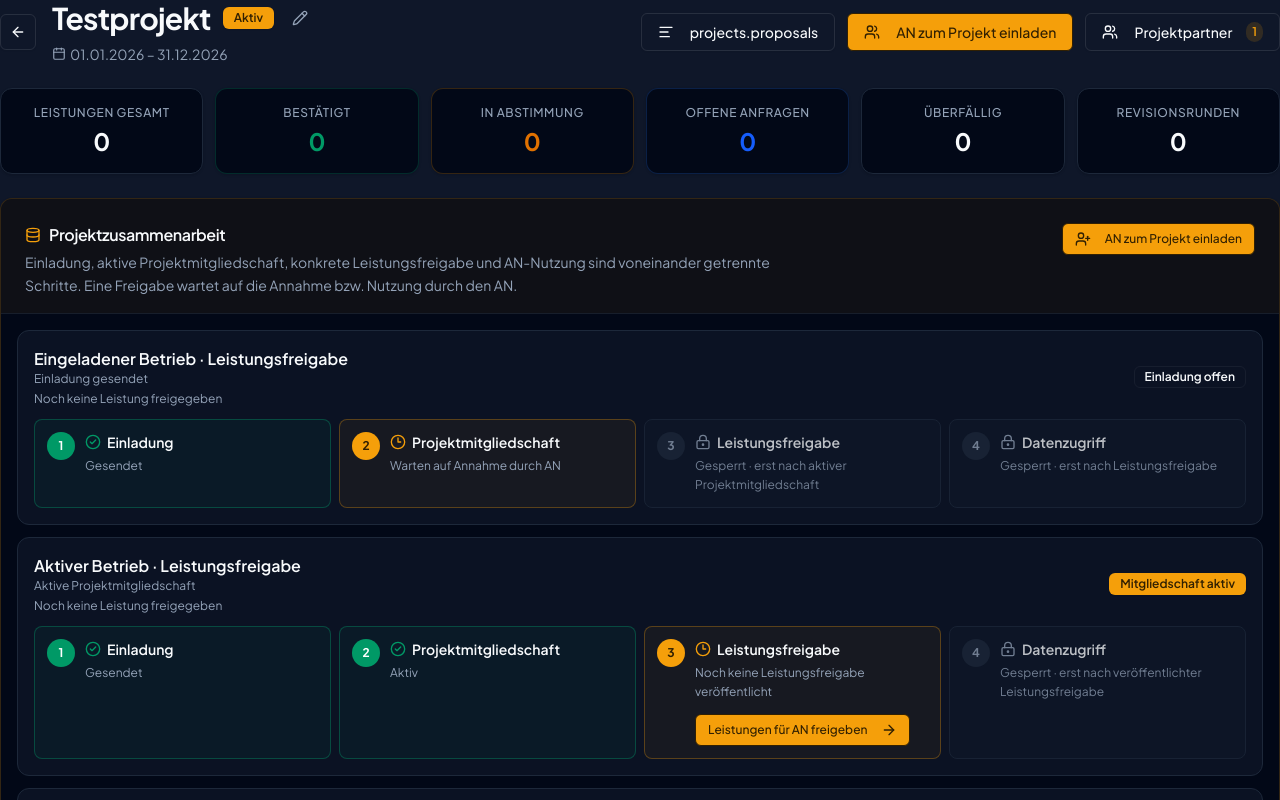
Test: project participant directory membership lifecycle › shows failed and pending deliveries and retries the selected delivery
Click the button "Projektpartner 1" at [1183, 32], box [1085,13,1279,51]
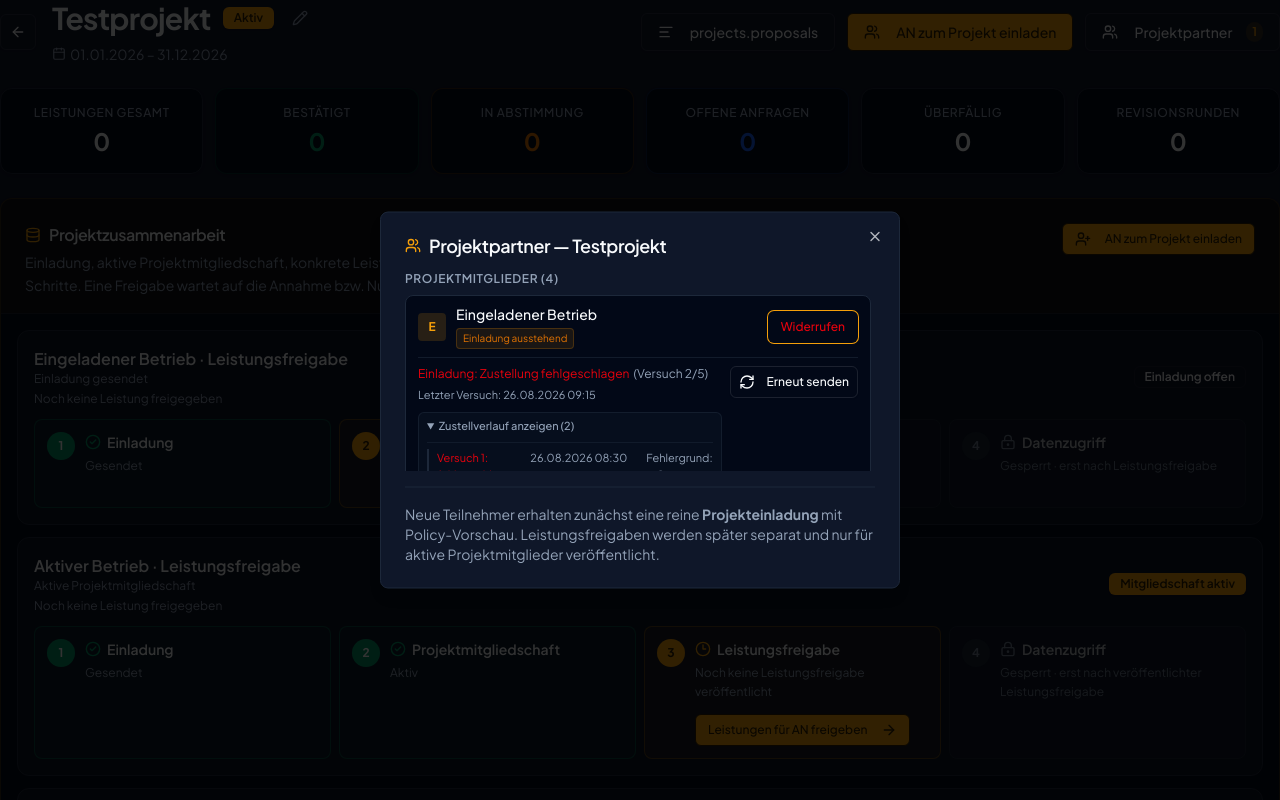
expect the text "Einladung: Zustellung fehlgeschlagen(Versuch 2/5)" is shown: met, box [418,366,708,380]
expect the text "Letzter Versuch: 26.08.2026 09:15" is shown: met, box [418,388,596,400]
Click the button "Erneut senden" at [794, 382], box [730,366,858,398]
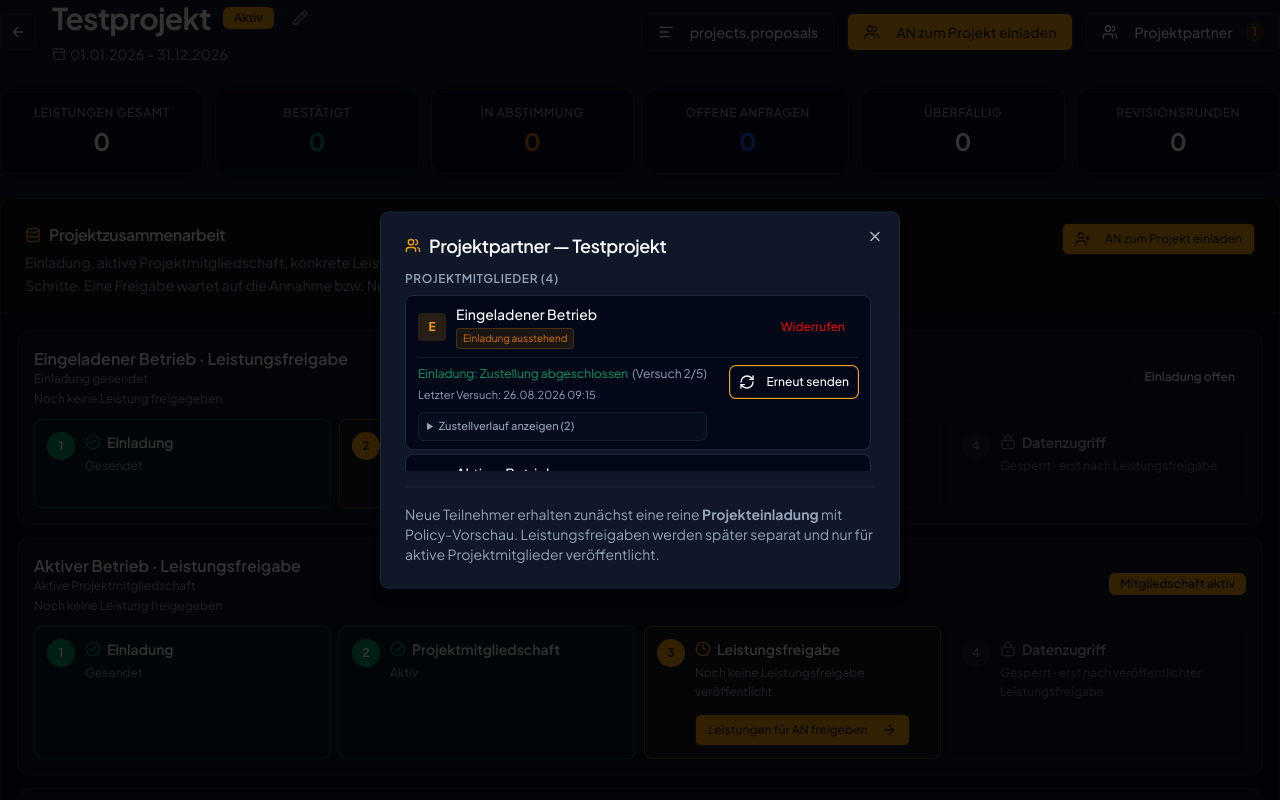
expect the text "Einladung: Zustellung fehlgeschlagen" is gone: met
